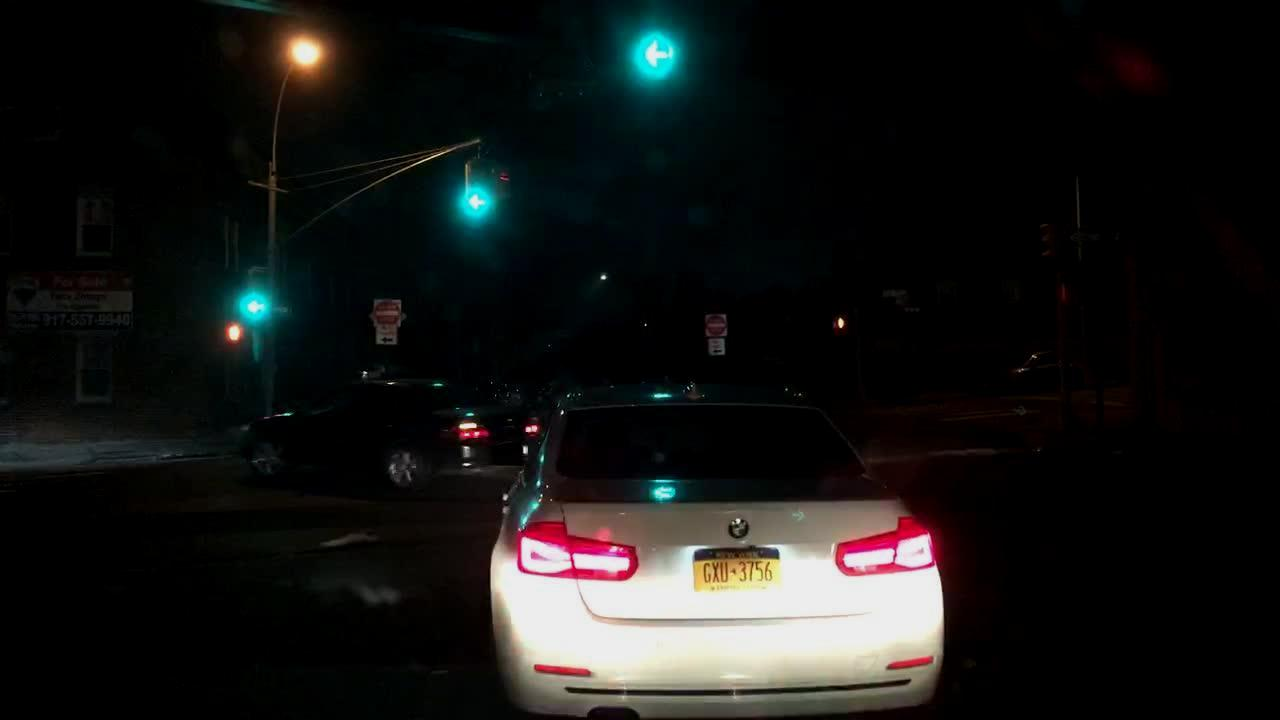bmw: (717, 512, 759, 543)
